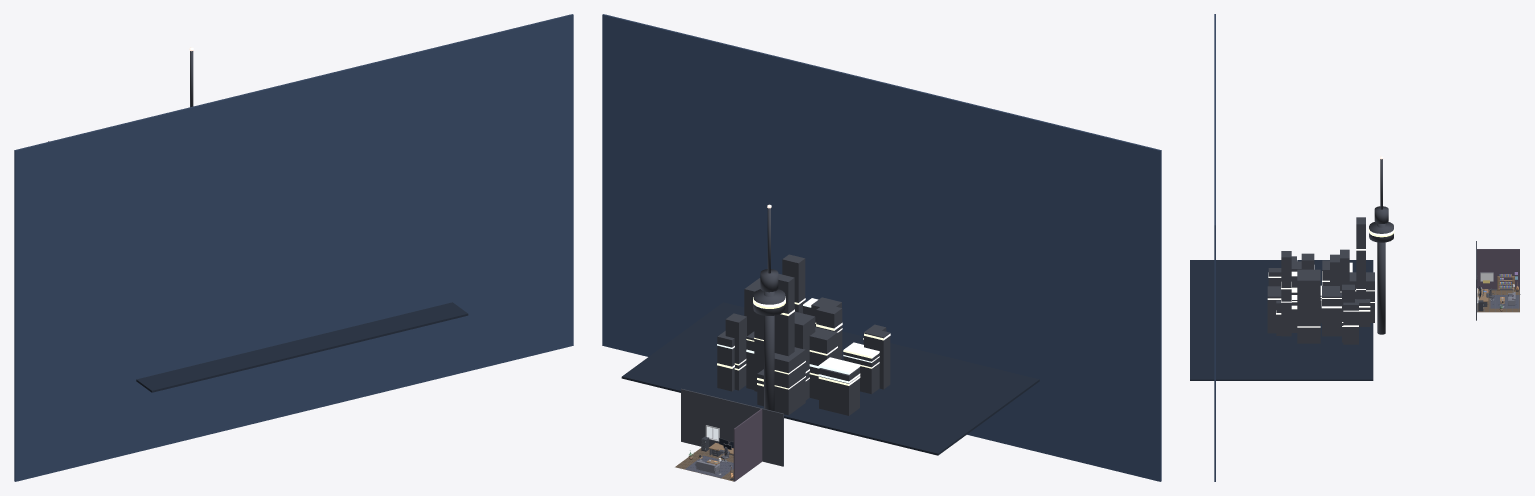
The model's file is room.glb.
3 renders of one model, left to right at view 1: azimuth 30°, elevation 25°; view 2: azimuth 150°, elevation 25°; view 3: azimuth 270°, elevation 25°, orthographic. The views are drawn at different scales.
Visible parts, largest first — view 1: ix_window; view 2: ix_window, wall_back, cn_tower, wall_left; view 3: ix_window, cn_tower, wall_left, floor.
Part boxes in pixels (bbox=[...]): ix_window: bbox=[14, 14, 573, 481]; ix_window: bbox=[602, 14, 1161, 481]; wall_back: bbox=[681, 388, 783, 466]; cn_tower: bbox=[753, 204, 785, 411]; wall_left: bbox=[733, 409, 762, 481]; ix_window: bbox=[1190, 14, 1374, 481]; cn_tower: bbox=[1368, 156, 1394, 334]; wall_left: bbox=[1477, 249, 1519, 289]; floor: bbox=[1477, 290, 1519, 312].
Bounding box in the file's own units: 60 × 34 × 39.72.
